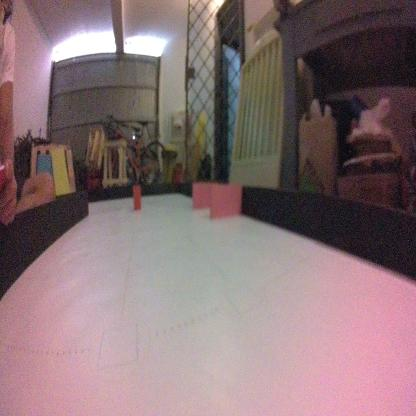magenta: (209, 183, 242, 223), (192, 180, 218, 208)
red: (132, 184, 142, 209)
